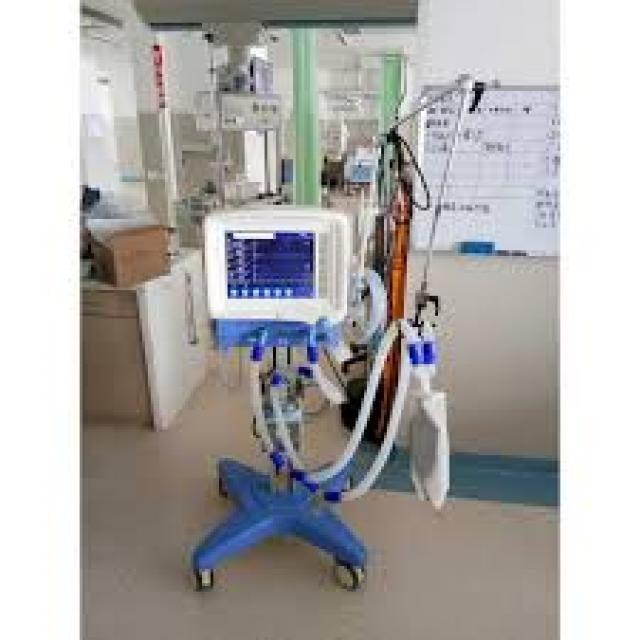ventilator: (166, 149, 445, 605)
